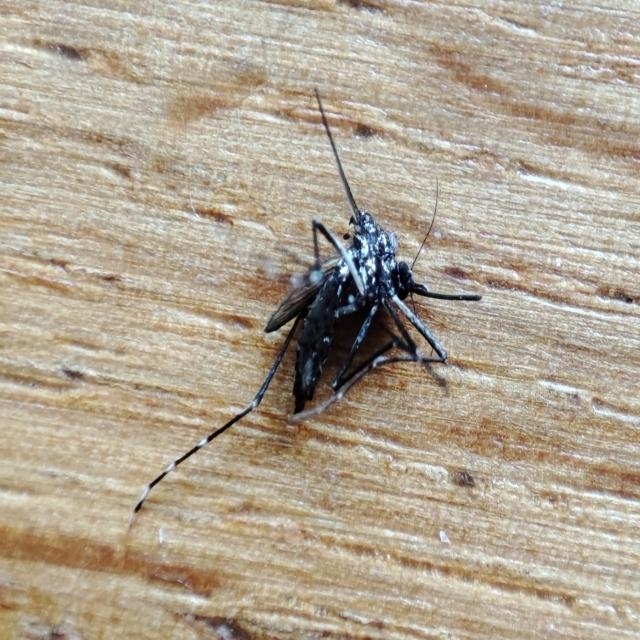albopictus: (224, 64, 487, 458)
